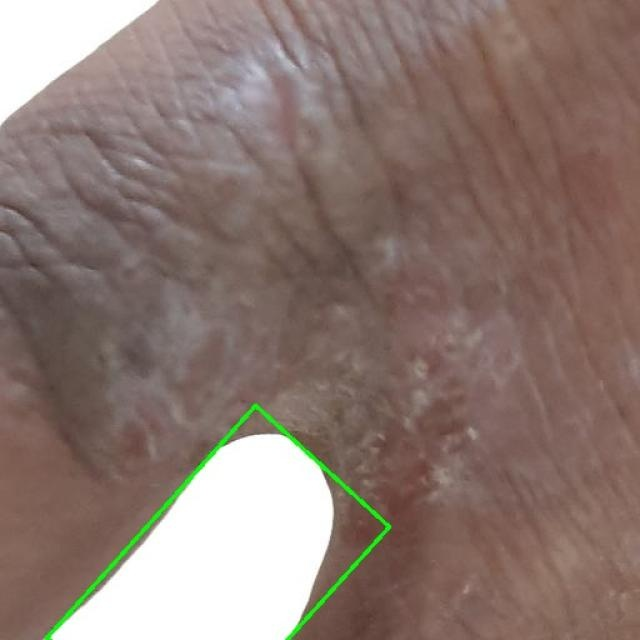Eczema: (46, 406, 390, 640)
